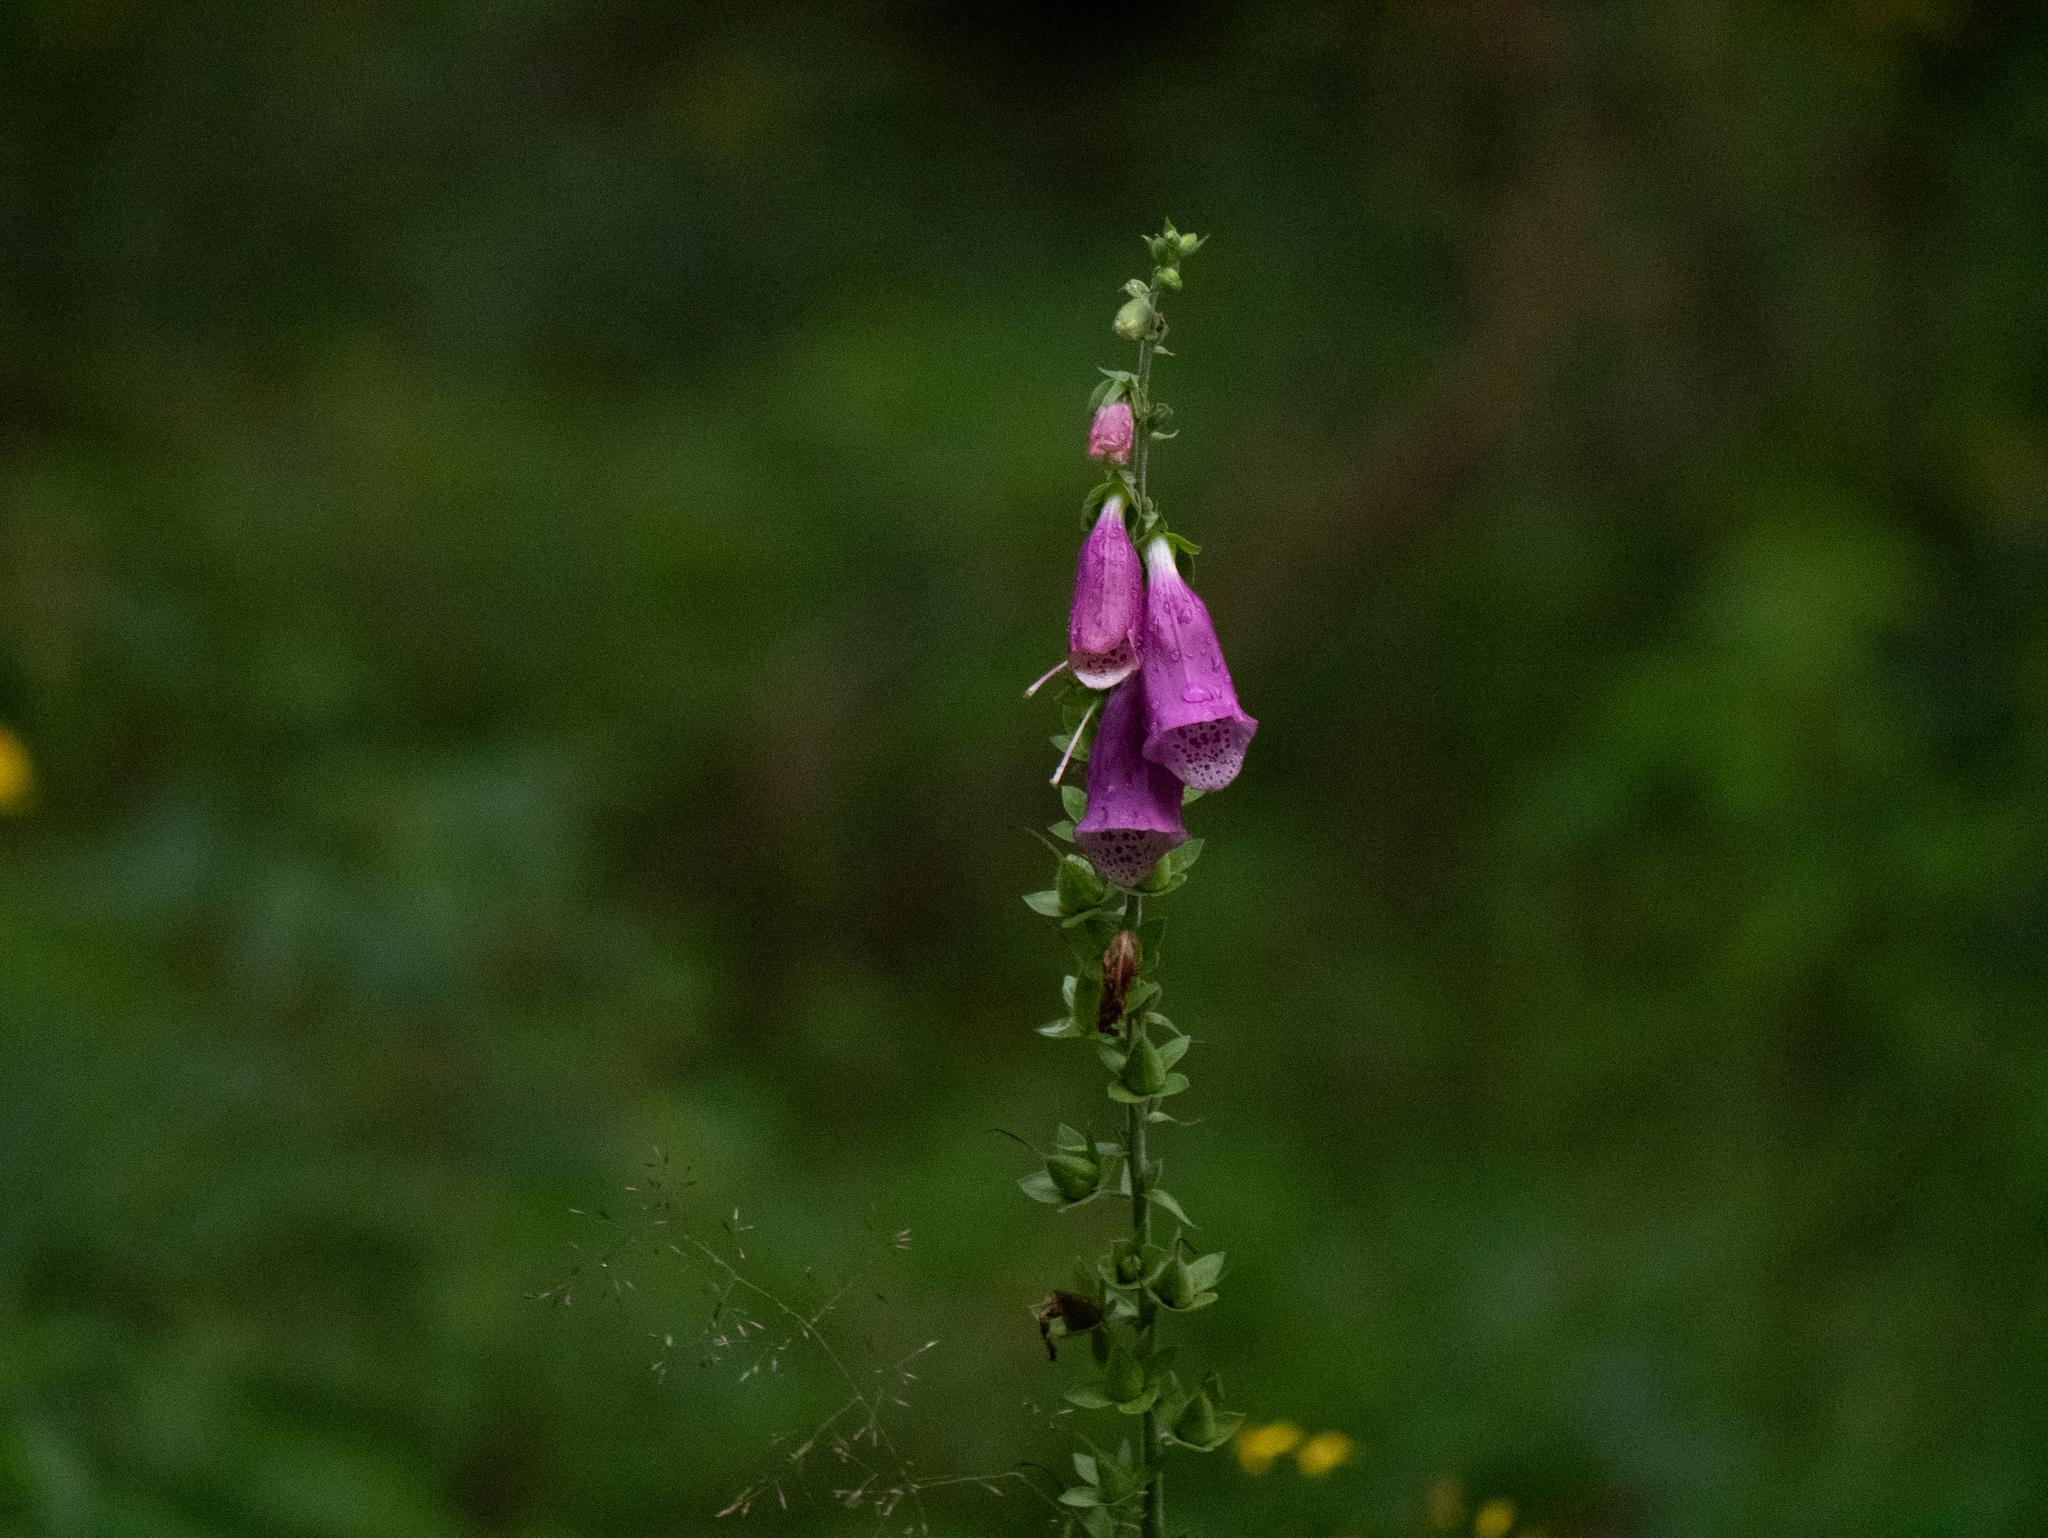Digitalis L: (1009, 192, 1294, 1538)
